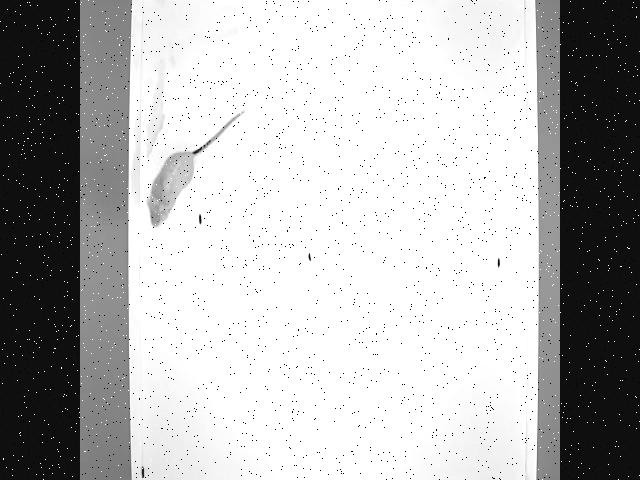Tikus: (145, 105, 249, 234)
